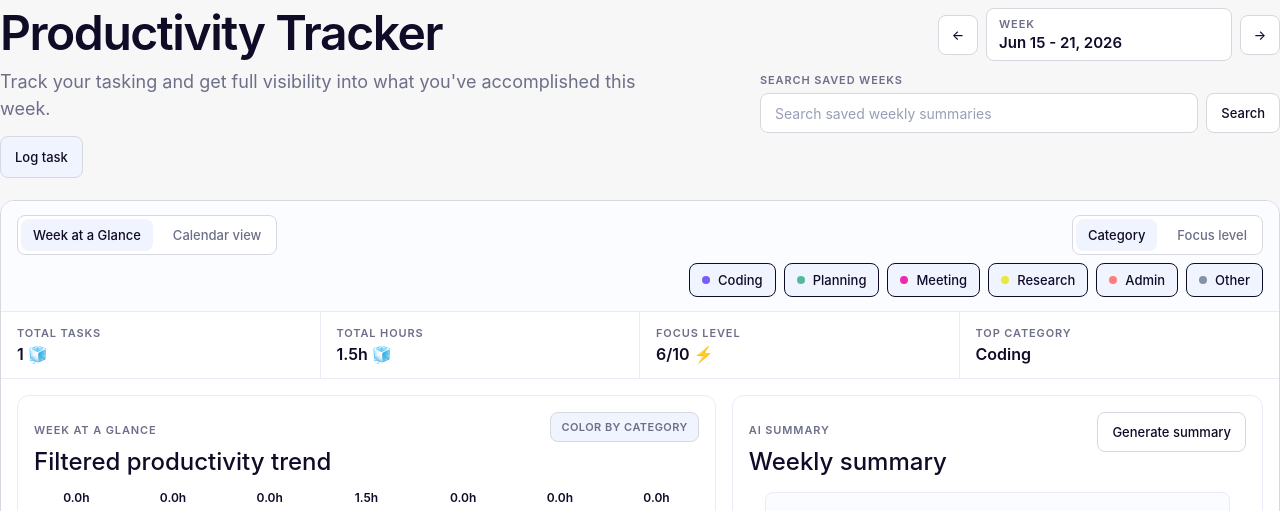
Test: landing page shows the empty selected-week state and hides summary generation when no tasks exist
The width and height of the screenshot is (1280, 511).
Expected: the button "Generate summary" is shown, [1097,412,1246,452]
Click the button named "View previous week": (958,34) [938,14,978,54]
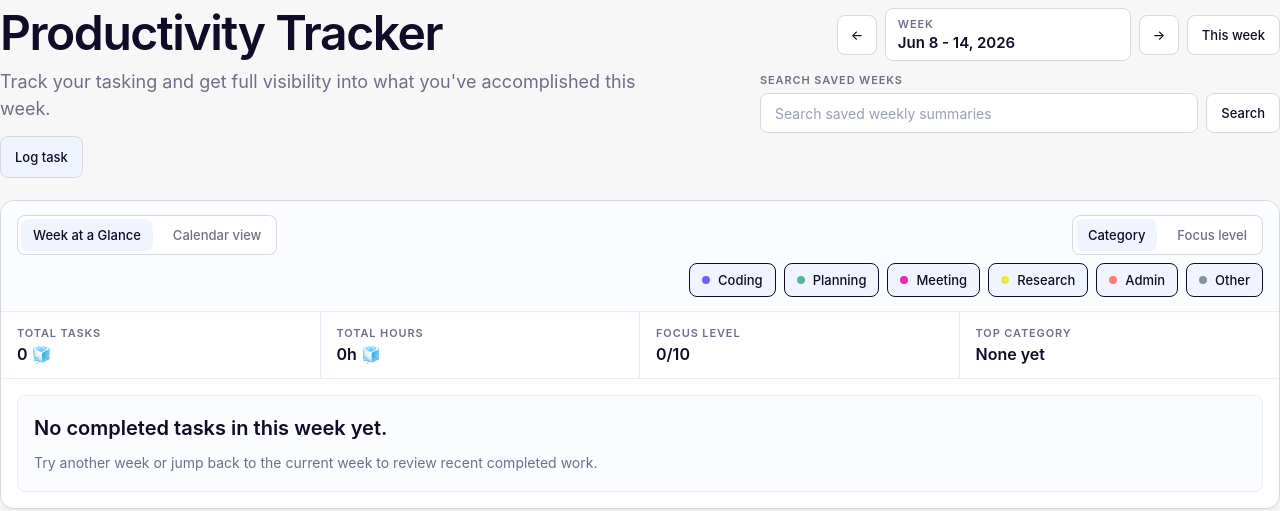
Expected: the text "No completed tasks in this week yet." is shown, [34,416,387,440]
Expected: the button "Generate summary" is gone
